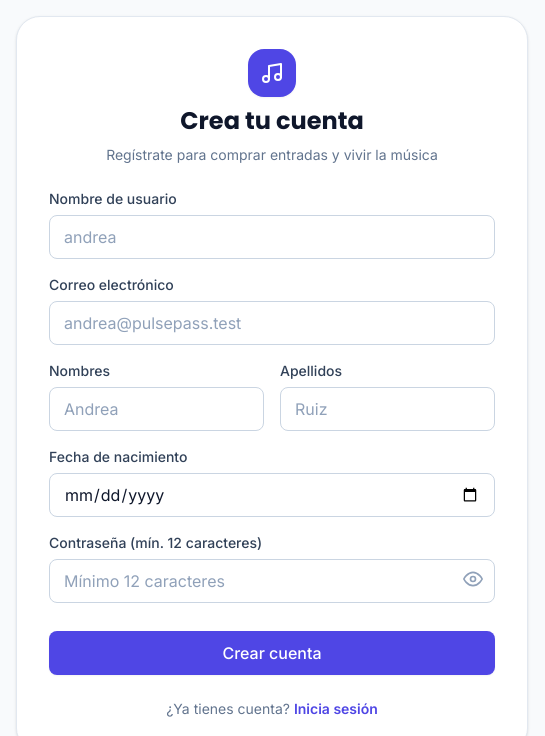
Autenticación y guardas › TEST-FE-AUTH-005: registro 201 redirige a /login con aviso
Type "nuevoUsuario" into the field labelled "Nombre de usuario". click: (272, 237)
box: [49, 215, 495, 259]
Type "nuevo@pulsepass.test" into the field labelled "Correo electrónico". click: (272, 323)
box: [49, 301, 495, 345]
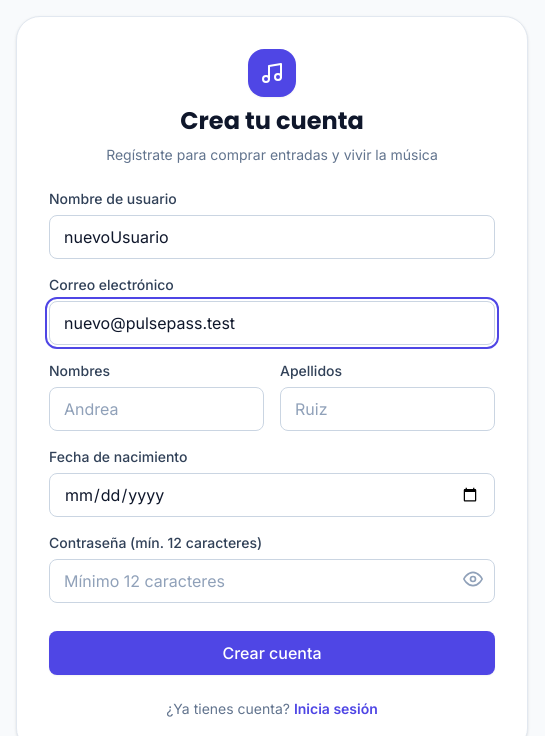
Type "Nuevo" into the field labelled "Nombres". click: (156, 409)
box: [49, 387, 264, 431]
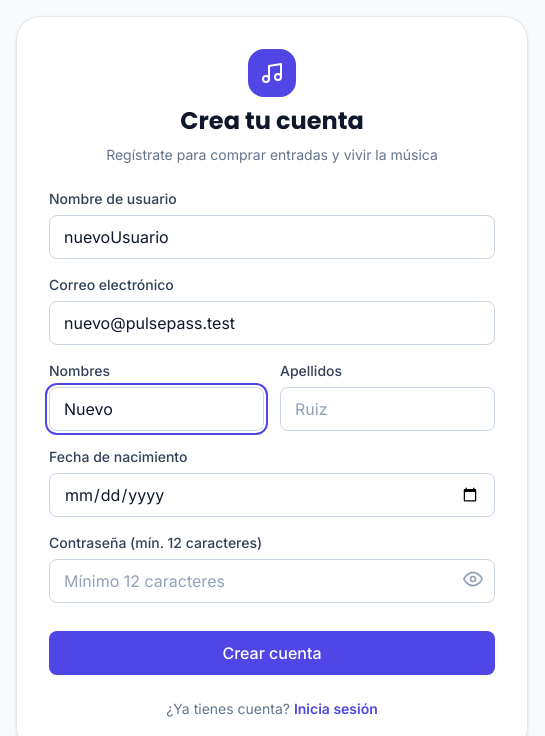
Type "Usuario" into the field labelled "Apellidos". click: (388, 409)
box: [280, 387, 495, 431]
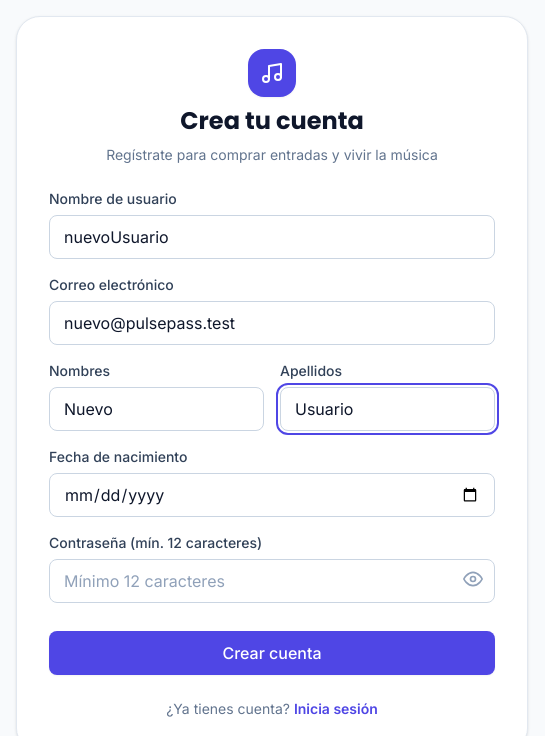
Type "1995-05-15" into the date field labelled "Fecha de nacimiento". click: (272, 495)
box: [49, 473, 495, 517]
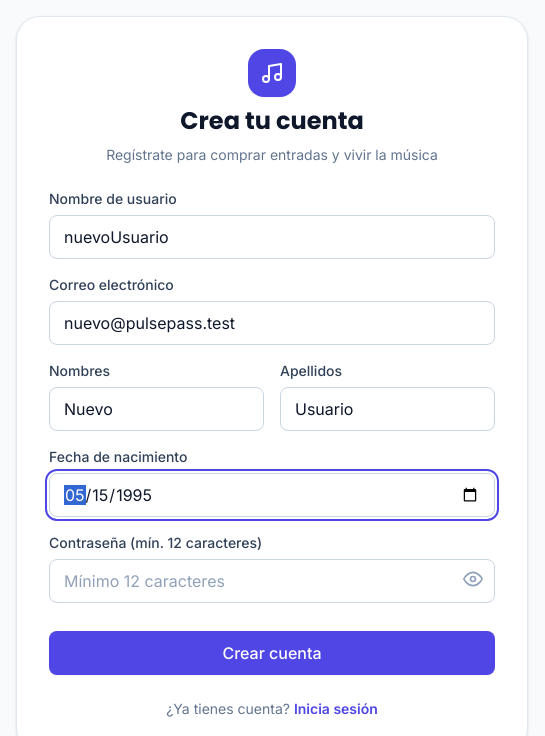
Type "ContrasenaSegura123!" into the password field labelled "Contraseña (mín. 12 caracteres)". click: (272, 581)
box: [49, 559, 495, 603]
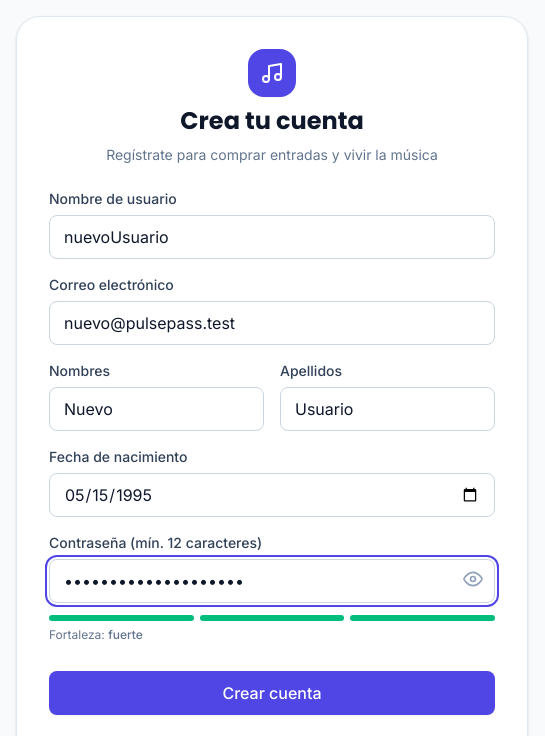
Click the button "Crear cuenta". click: (272, 693)
box: [49, 671, 495, 715]
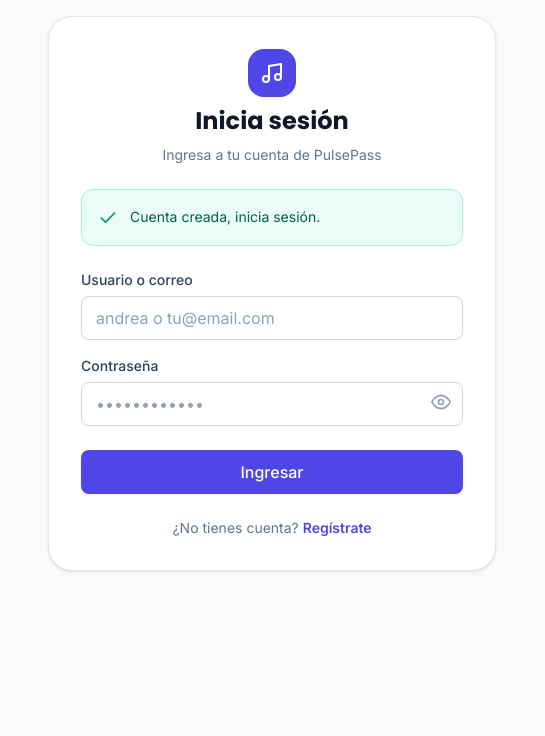
expect the text "Cuenta creada, inicia sesión." is shown: met, box [130, 208, 320, 225]
